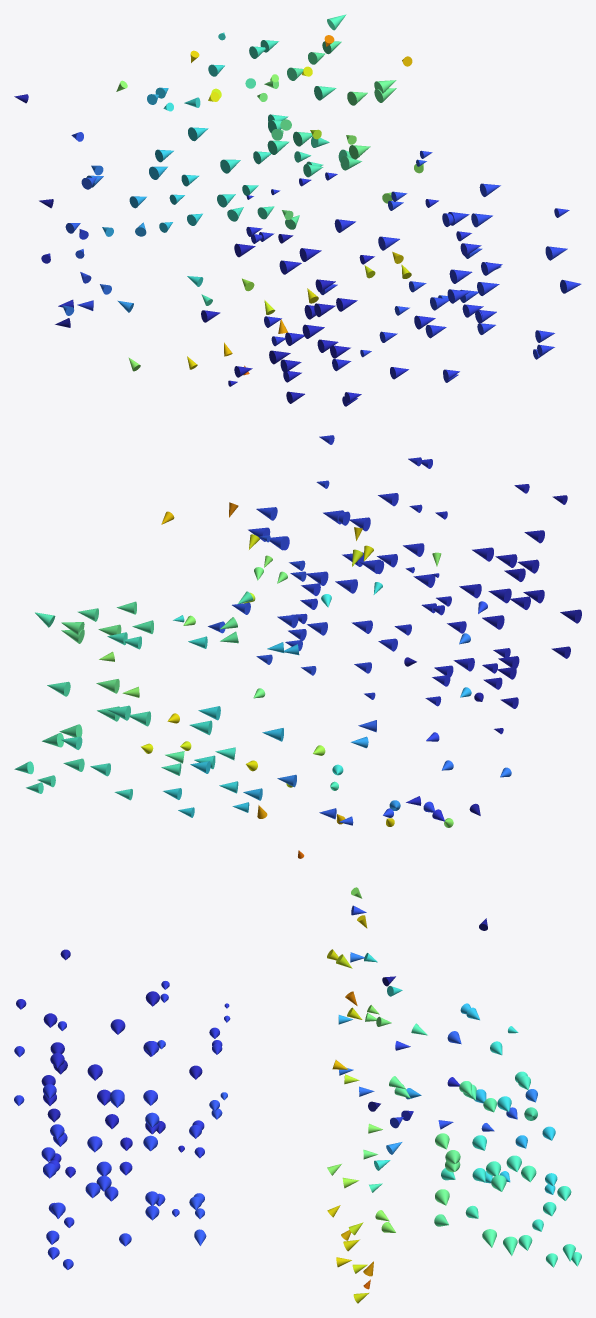
Rendered from LineasCorrienteN2-H2O_mh2-1.38_V-1.glb.
3 views of the same model, one above another, from view 1: azimuth 30°, elevation 25°; view 2: azimuth 150°, elevation 25°; view 3: azimuth 270°, elevation 25° (orthographic).
Bounding box in the file's own units: 0.000968 × 0.000808 × 0.0012.
Materials: 2 (2 with a texture image).
